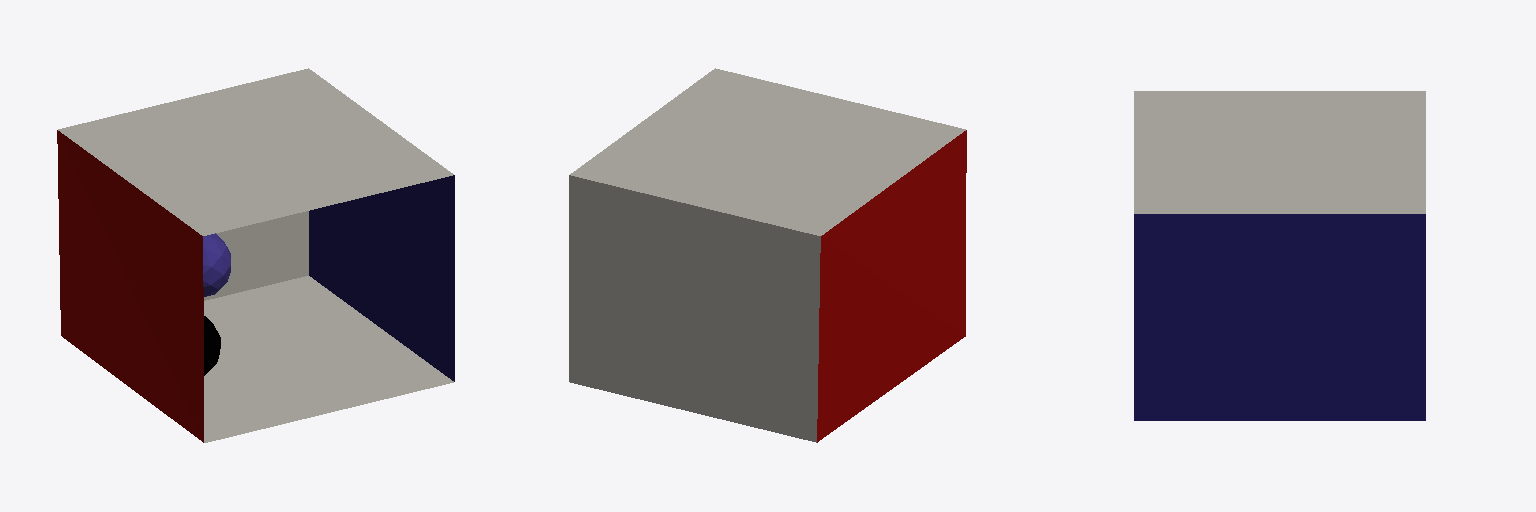
Rendered from CornellBox-Sphere-103.obj.
3 renders of one model, left to right at view 1: azimuth 30°, elevation 25°; view 2: azimuth 150°, elevation 25°; view 3: azimuth 270°, elevation 25°, orthographic.
Visible parts, largest first — view 1: ceiling, leftWall, floor, rightWall, backWall, leftSphere, rightSphere; view 2: backWall, ceiling, leftWall; view 3: rightWall, ceiling.
Part boxes in pixels (x1,y1,x2,y2): ceiling: (58,68,453,235); leftWall: (57,130,203,442); floor: (204,276,453,442); rightWall: (309,175,454,381); backWall: (204,211,308,300); leftSphere: (203,233,230,296); rightSphere: (204,316,220,375); backWall: (569,175,820,442); ceiling: (570,68,965,235); leftWall: (817,130,966,442); rightWall: (1134,214,1425,420); ceiling: (1134,91,1425,213).
Size of the model in its own units: 2.02 by 1.59 by 2.03.